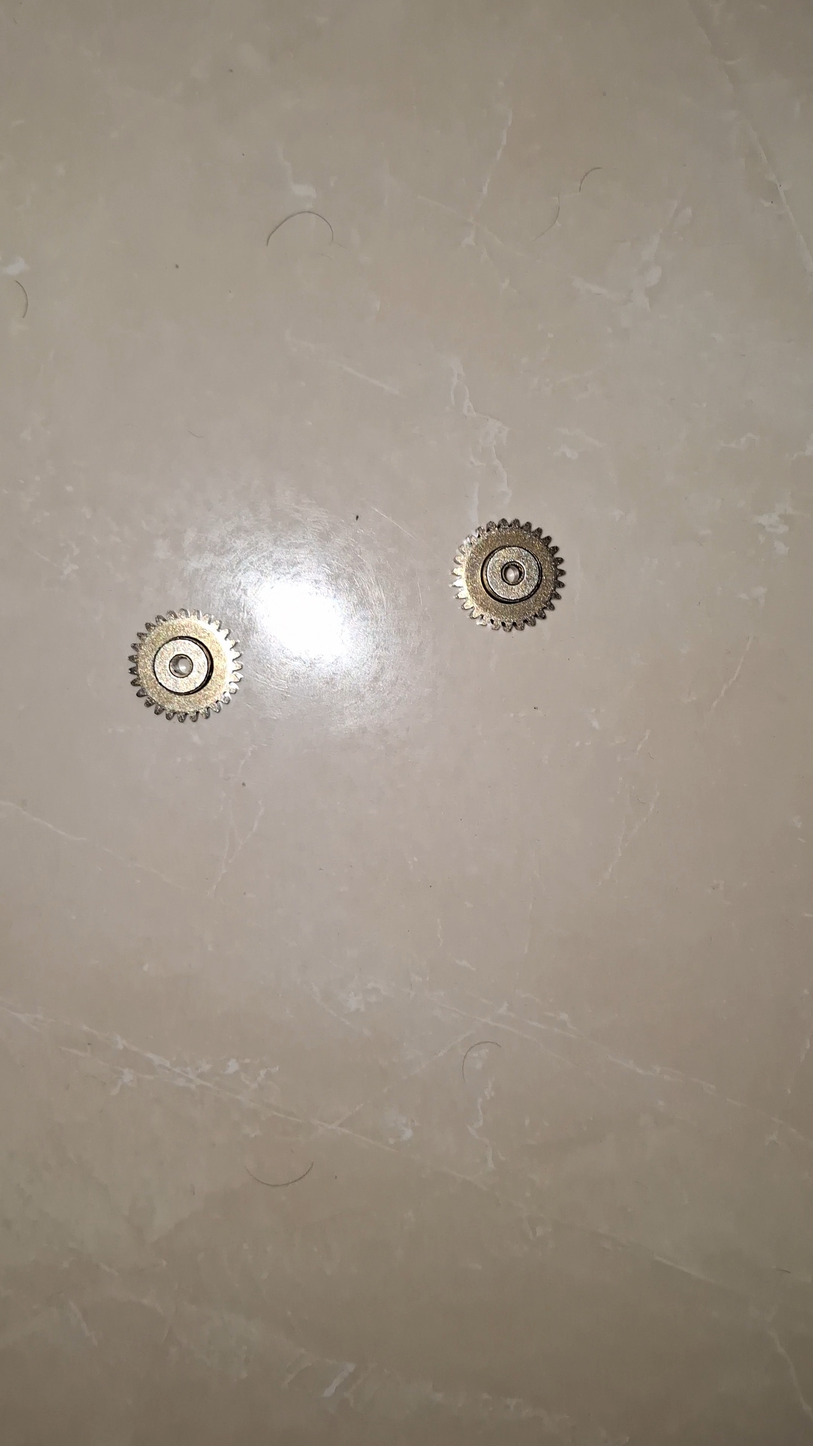spur gear: (130, 609, 242, 721), (452, 519, 564, 630)
